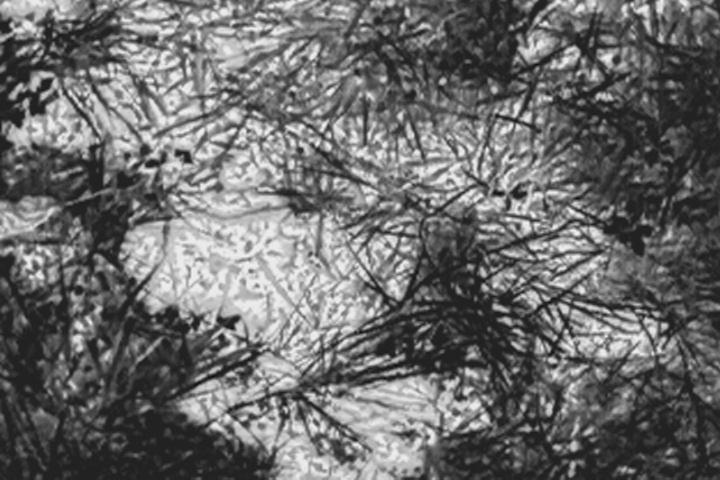landmine: (186, 203, 318, 310)
